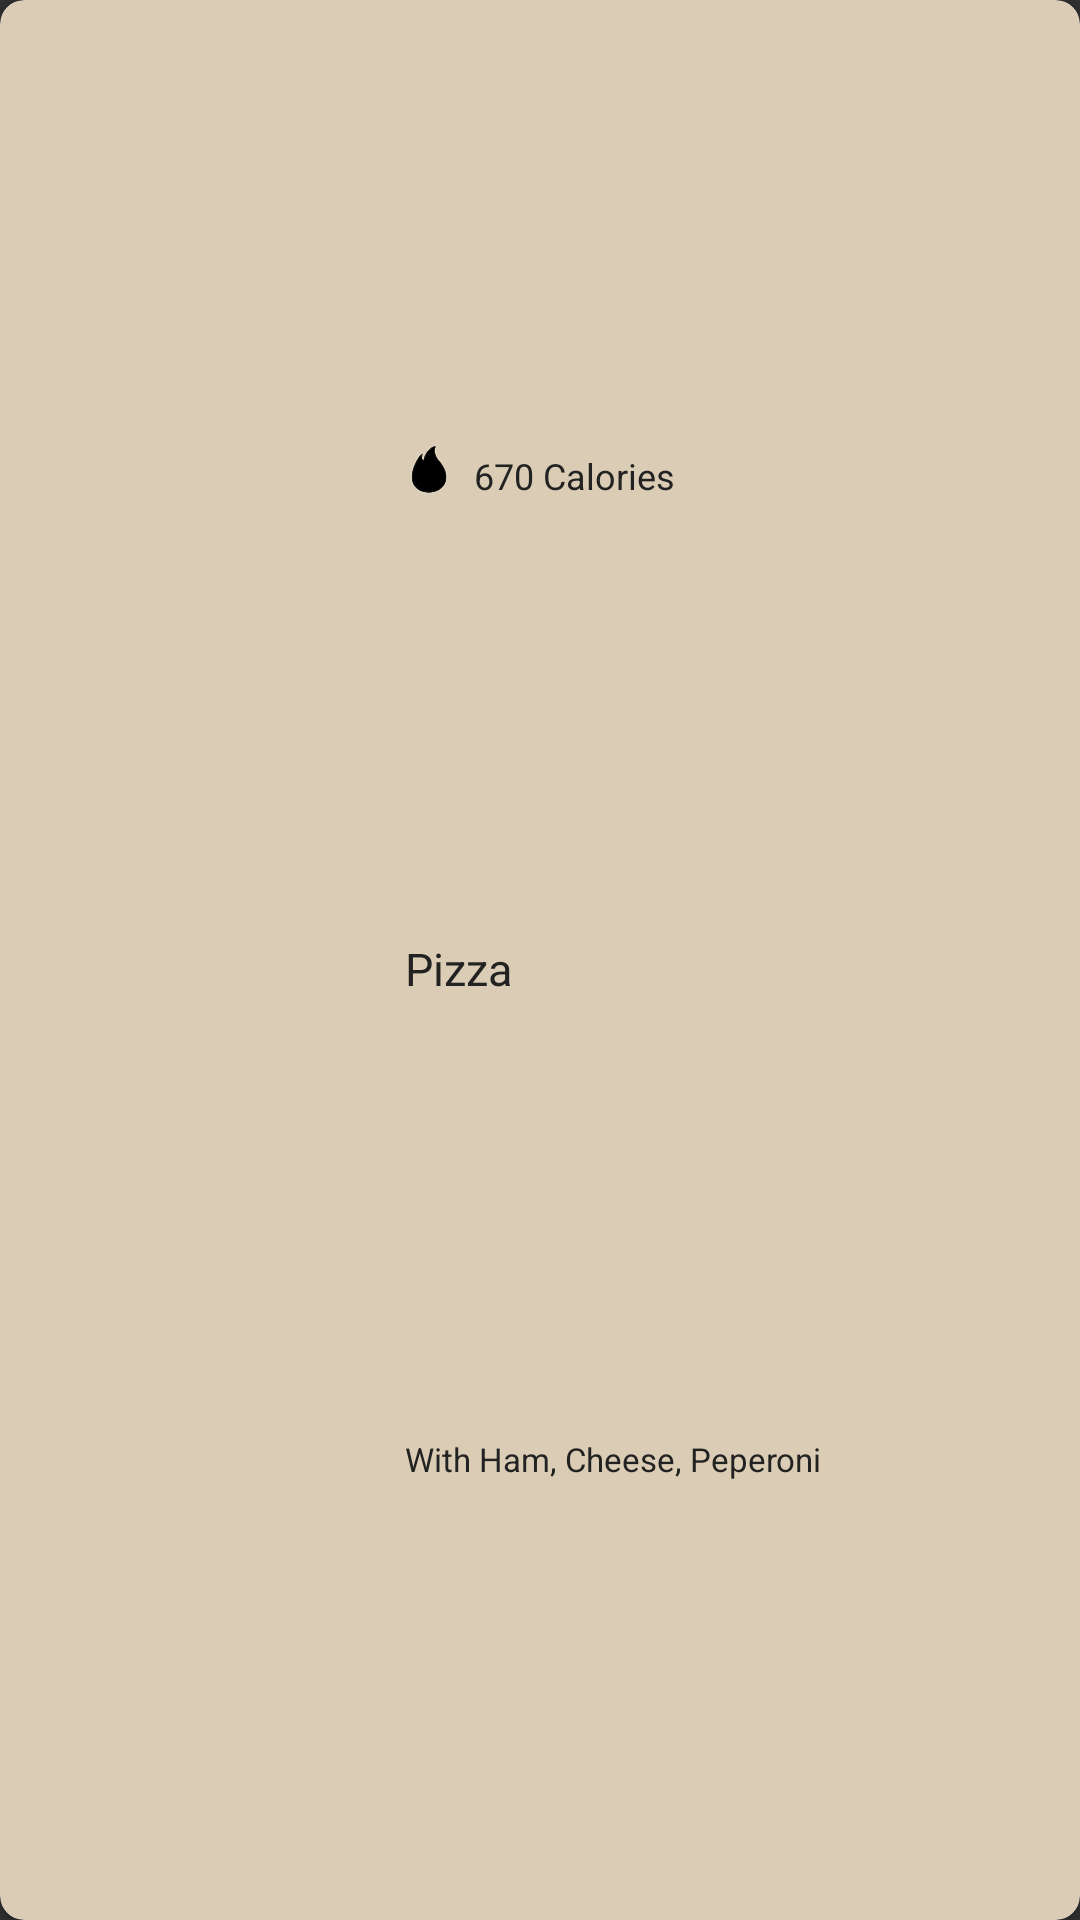

Locate icon controls on the screen. Image size 1080×1920, boxes as (x1, y1, x2, y2).
floga: (412, 446, 447, 493)
